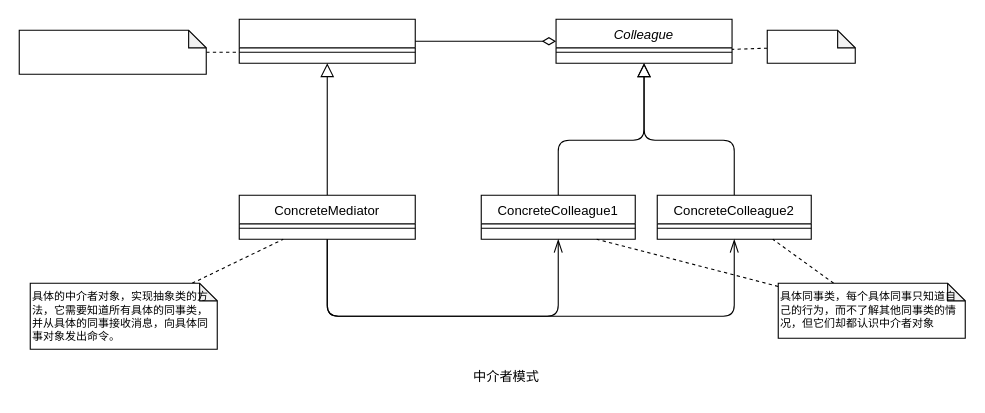
The diagram is 985 pixels wide and 413 high, and some of its shapes have lost their labels. The centre of each missing label's shape, as x and y in pixels:
"Mediator" goes at point 326,40.
"抽象中介者，定义了同事对象到中介者对象的接口" goes at point 112,51.
"抽象同事类" goes at point 810,46.
